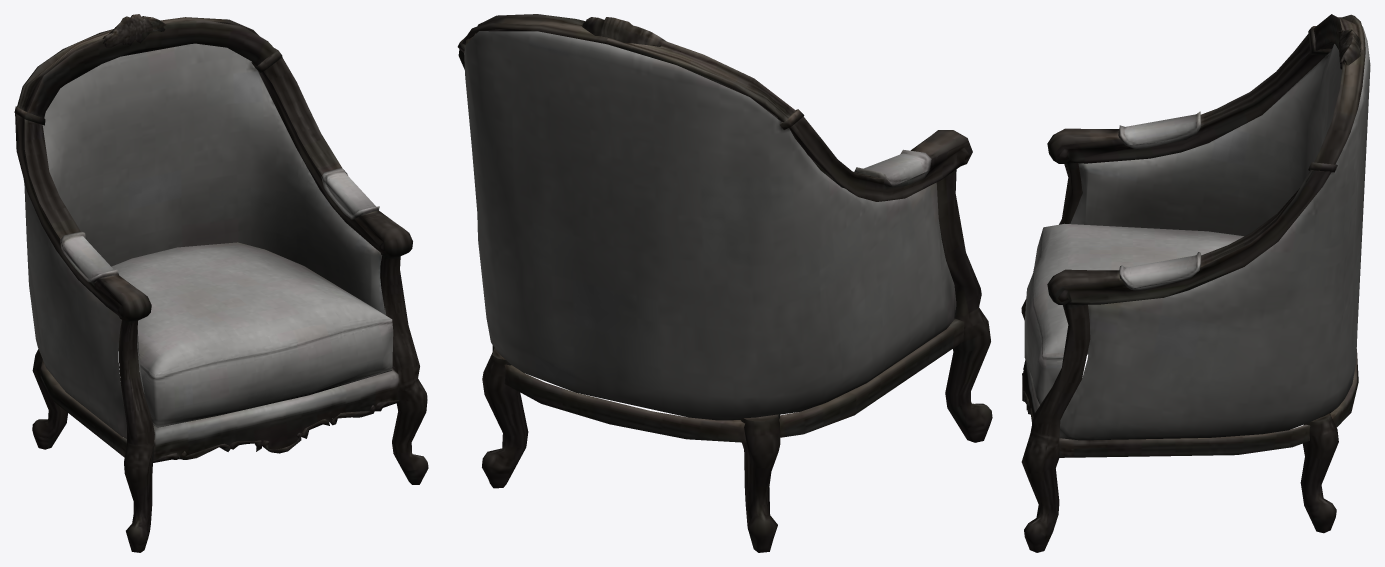
File: ArmChair_01.glb
The picture shows the model from 3 angles, left to right: view 1: azimuth 30°, elevation 25°; view 2: azimuth 150°, elevation 25°; view 3: azimuth 270°, elevation 25°; orthographic projection. The views are drawn at different scales.
Parts seen in each view (by area): view 1: ArmChair_01; view 2: ArmChair_01; view 3: ArmChair_01.
Boxes of the visible parts, x1,y1,x2,y2 form: ArmChair_01: (14,14,428,552); ArmChair_01: (457,14,992,552); ArmChair_01: (1021,14,1370,552).
Bounding box in the file's own units: 0.8483 × 1.06 × 0.7657.
Materials: 1 (1 with a texture image).
